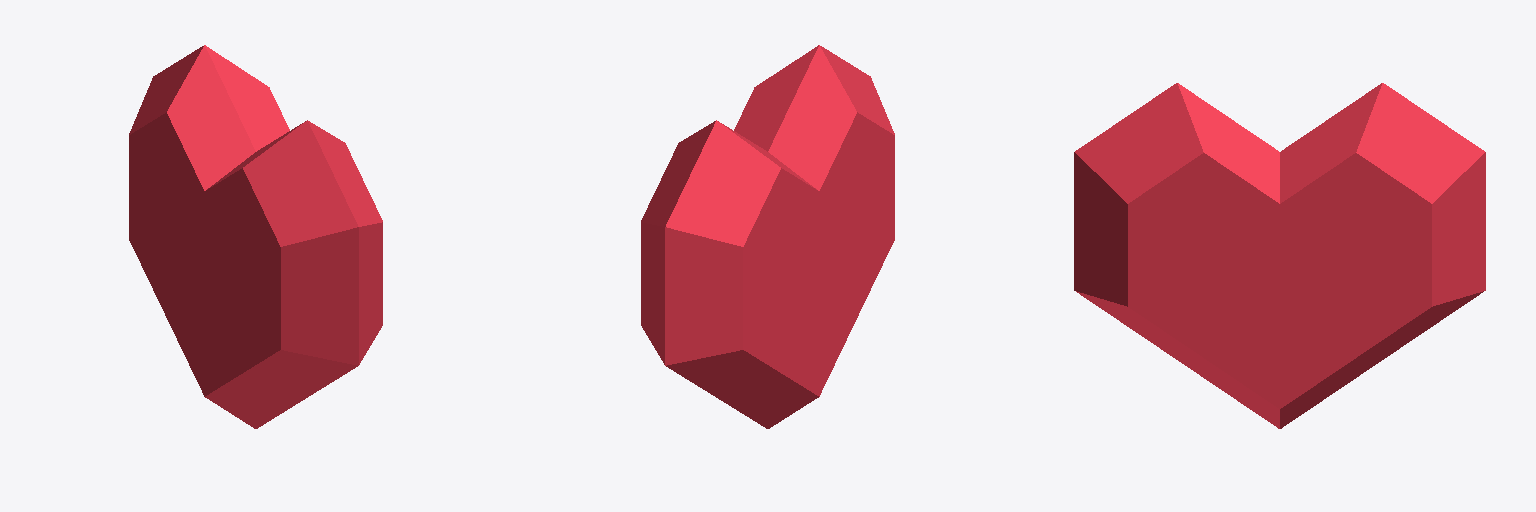
File: heart.obj
3 renders of one model, left to right at view 1: azimuth 30°, elevation 25°; view 2: azimuth 150°, elevation 25°; view 3: azimuth 270°, elevation 25°, orthographic.
Parts seen in each view (by area): view 1: heart; view 2: heart; view 3: heart.
Part boxes in pixels (x1,y1,x2,y2): heart: (129, 45, 382, 428); heart: (641, 45, 894, 428); heart: (1074, 83, 1485, 428).
Size of the model in its own units: 0.119 by 0.3839 by 0.4122.